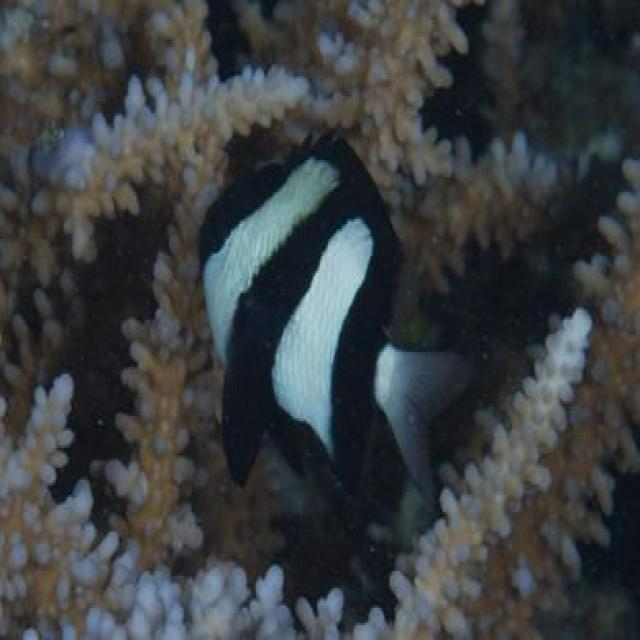ThreeStripedDamselfish: (199, 133, 476, 542)
